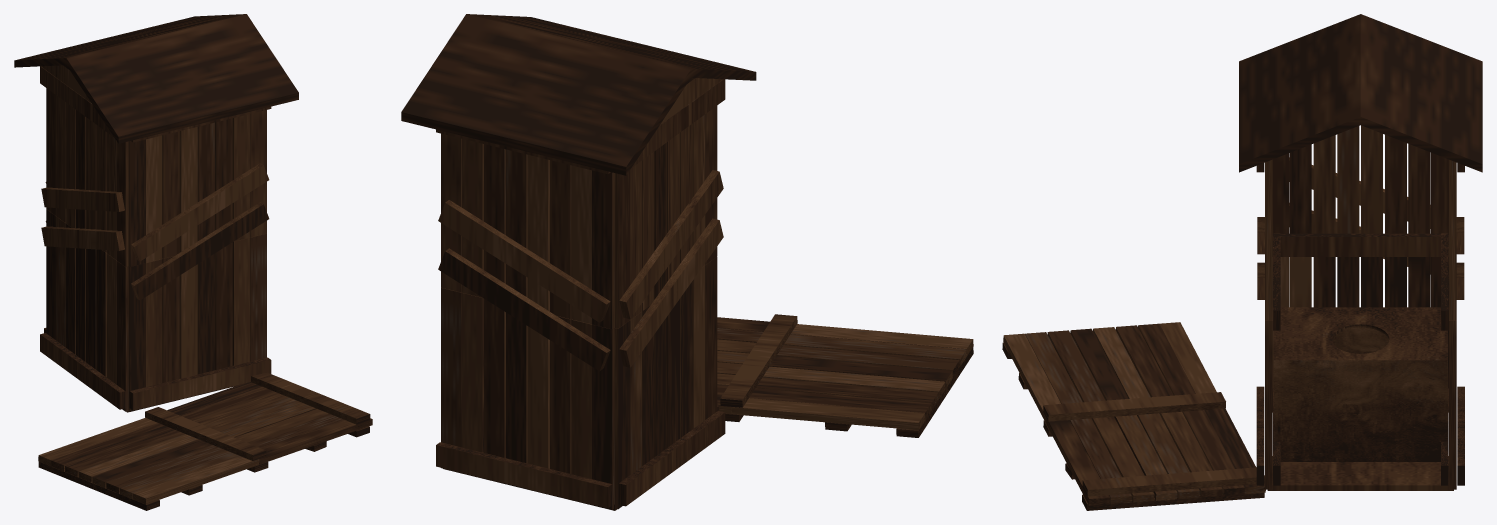
The model's file is outhouse.glb.
3 renders of one model, left to right at view 1: azimuth 30°, elevation 25°; view 2: azimuth 150°, elevation 25°; view 3: azimuth 270°, elevation 25°, orthographic. The views are drawn at different scales.
Parts seen in each view (by area): view 1: Cube.002, Cube.006; view 2: Cube.002, Cube.006; view 3: Cube.002, Cube.006.
Part boxes in pixels (x1=…): Cube.002: x1=14, y1=14, x2=298, y2=412; Cube.006: x1=38, y1=372, x2=372, y2=510; Cube.002: x1=401, y1=14, x2=756, y2=510; Cube.006: x1=717, y1=314, x2=973, y2=437; Cube.002: x1=1239, y1=14, x2=1482, y2=490; Cube.006: x1=1002, y1=322, x2=1265, y2=510.
Bounding box in the file's own units: 4.28 × 4.69 × 5.15.
3 materials, 1 textured.
